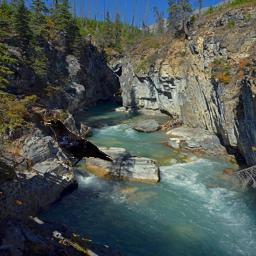Crow: (44, 119, 114, 168)
